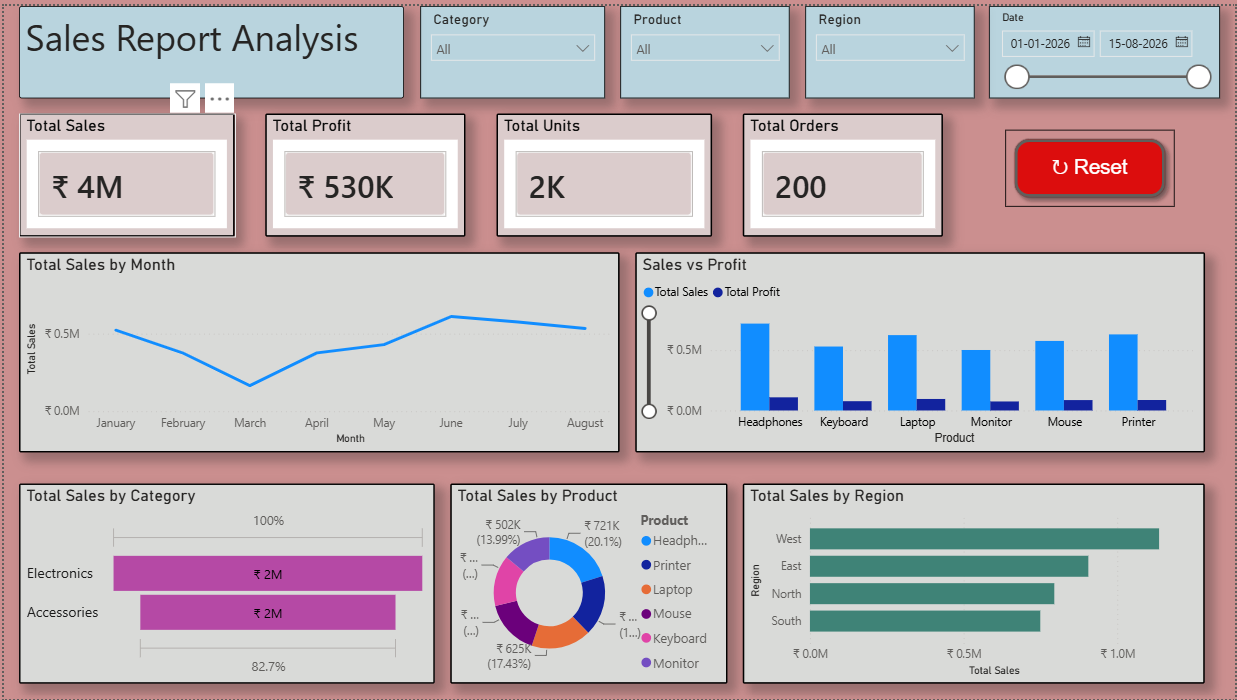

What the dashboard file says about the page in this screenshot:
{"tool":"powerbi","page":{"name":"Sales","canvas":[1280,720],"ordinal":0},"visuals":[{"type":"slicer","fields":{"Values":["Sales.Category"]},"box":[432,0,192,96],"z":0},{"type":"textbox","box":[16,0,400,96],"z":1000},{"type":"cardVisual","title":"Total Sales","fields":{"Data":["Sales.Total Sales"]},"box":[16,112,224,128],"z":2000},{"type":"slicer","fields":{"Values":["Sales.Product"]},"box":[640,0,176,96],"z":3000},{"type":"slicer","fields":{"Values":["Sales.Date"]},"box":[1024,0,240,96],"z":4000},{"type":"slicer","fields":{"Values":["Sales.Region"]},"box":[832,0,176,96],"z":5000},{"type":"cardVisual","title":"Total Profit","fields":{"Data":["Sales.Total Profit"]},"box":[272,112,208,128],"z":6000},{"type":"cardVisual","title":"Total Orders","fields":{"Data":["Sales.Total Orders"]},"box":[768,112,208,128],"z":7000},{"type":"cardVisual","title":"Total Units","fields":{"Data":["Sales.Total Units"]},"box":[512,112,224,128],"z":8000},{"type":"lineChart","fields":{"Category":["Sales.Date.Variation.Date Hierarchy.Month"],"Y":["Sales.Total Sales"]},"box":[16,256,624,208],"z":9000},{"type":"clusteredBarChart","fields":{"Category":["Sales.Region"],"Y":["Sales.Total Sales"]},"box":[768,496,480,208],"z":10000},{"type":"funnel","fields":{"Category":["Sales.Category"],"Y":["Sales.Total Sales"]},"box":[16,496,432,208],"z":11000},{"type":"donutChart","fields":{"Category":["Sales.Product"],"Y":["Sales.Total Sales"]},"box":[464,496,288,208],"z":12000},{"type":"actionButton","title":"↻ Reset","box":[1040,128,176,80],"z":13000},{"type":"clusteredColumnChart","title":"Sales vs Profit","fields":{"Category":["Sales.Product"],"Y":["Sales.Total Sales","Sales.Total Profit"]},"box":[656,256,592,208],"z":14000}]}

Visuals, with their boxes in screenshot pixels (x1, y1, x2, y2), scaled from the page's 1280x720 canvas onto the 1237x700 screenshot:
slicer - Sales.Category: <region>417, 0, 603, 93</region>
textbox: <region>15, 0, 402, 93</region>
"Total Sales" cardVisual: <region>15, 109, 232, 233</region>
slicer - Sales.Product: <region>618, 0, 789, 93</region>
slicer - Sales.Date: <region>990, 0, 1222, 93</region>
slicer - Sales.Region: <region>804, 0, 974, 93</region>
"Total Profit" cardVisual: <region>263, 109, 464, 233</region>
"Total Orders" cardVisual: <region>742, 109, 943, 233</region>
"Total Units" cardVisual: <region>495, 109, 711, 233</region>
lineChart - Sales.Date.Variation.Date Hierarchy.Month x Sales.Total Sales: <region>15, 249, 618, 451</region>
clusteredBarChart - Sales.Region x Sales.Total Sales: <region>742, 482, 1206, 684</region>
funnel - Sales.Category x Sales.Total Sales: <region>15, 482, 433, 684</region>
donutChart - Sales.Product x Sales.Total Sales: <region>448, 482, 727, 684</region>
"↻ Reset" actionButton: <region>1005, 124, 1175, 202</region>
"Sales vs Profit" clusteredColumnChart: <region>634, 249, 1206, 451</region>
